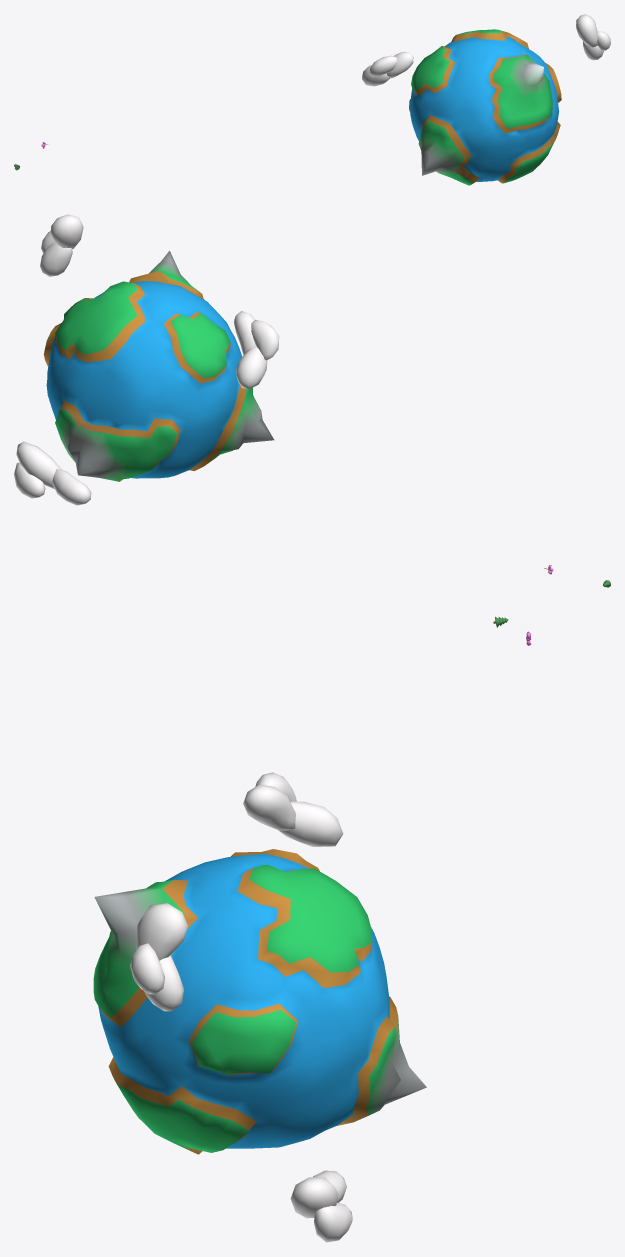
The model's file is world.glb.
3 renders of one model, top to bottom at view 1: azimuth 30°, elevation 25°; view 2: azimuth 150°, elevation 25°; view 3: azimuth 270°, elevation 25°, orthographic. The views are drawn at different scales.
Parts seen in each view (by area): view 1: Icosphere, Icosphere.004, Icosphere.001; view 2: Icosphere, Icosphere.009, Icosphere.004, Icosphere.001; view 3: Icosphere, Icosphere.001, Icosphere.004, Icosphere.009.
Part boxes in pixels (x1,y1,x2,y2): Icosphere: (409, 29, 561, 185); Icosphere.004: (362, 51, 413, 86); Icosphere.001: (576, 14, 610, 60); Icosphere: (43, 250, 274, 481); Icosphere.009: (14, 441, 91, 505); Icosphere.004: (234, 311, 279, 389); Icosphere.001: (40, 214, 83, 276); Icosphere: (93, 849, 426, 1154); Icosphere.001: (130, 903, 187, 1011); Icosphere.004: (243, 772, 343, 846); Icosphere.009: (290, 1170, 352, 1242).
Size of the model in its own units: 40.07 by 13.06 by 14.94.
